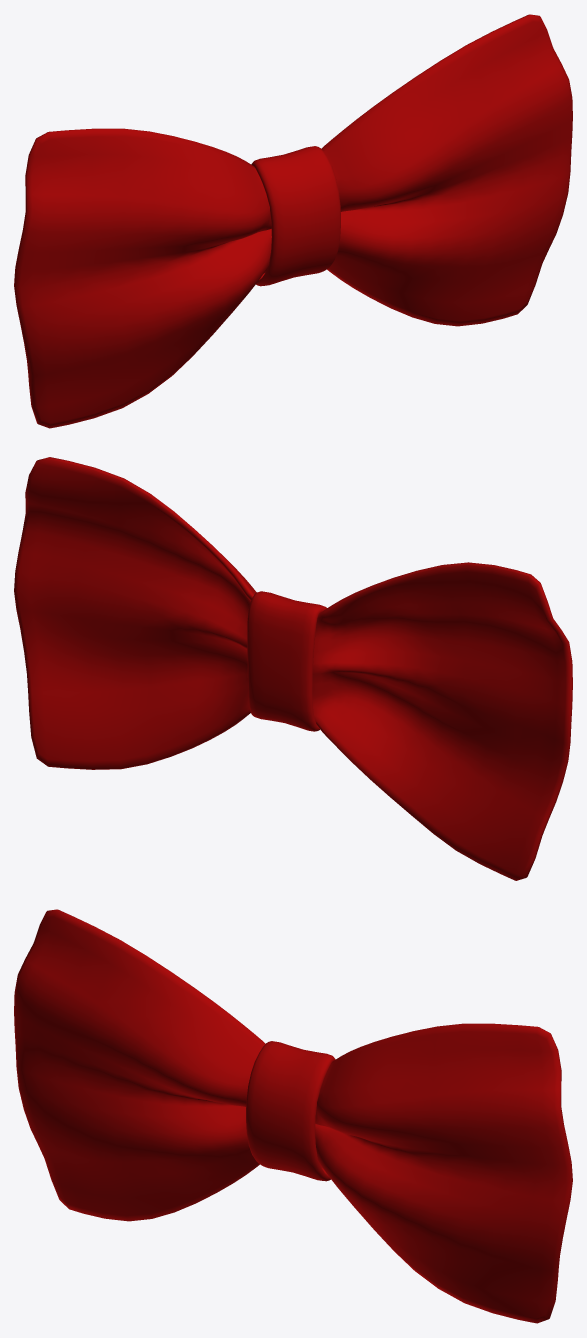
The picture shows the model from 3 angles, top to bottom: view 1: azimuth 30°, elevation 25°; view 2: azimuth 150°, elevation 25°; view 3: azimuth 330°, elevation 25°; orthographic projection.
Parts seen in each view (by area): view 1: Bow_tie_A_rig_may_r0:Bow_tie_2_Bow_tie_A_rig_may_r0:blacknec, Bow_tie_A_rig_may_r0:Bow_tie_1_Bow_tie_A_rig_may_r0:blacknec; view 2: Bow_tie_A_rig_may_r0:Bow_tie_2_Bow_tie_A_rig_may_r0:blacknec, Bow_tie_A_rig_may_r0:Bow_tie_1_Bow_tie_A_rig_may_r0:blacknec; view 3: Bow_tie_A_rig_may_r0:Bow_tie_2_Bow_tie_A_rig_may_r0:blacknec, Bow_tie_A_rig_may_r0:Bow_tie_1_Bow_tie_A_rig_may_r0:blacknec.
Boxes of the visible parts, box(x1,y1,x2,y2) form: Bow_tie_A_rig_may_r0:Bow_tie_2_Bow_tie_A_rig_may_r0:blacknec: box(14, 14, 572, 428); Bow_tie_A_rig_may_r0:Bow_tie_1_Bow_tie_A_rig_may_r0:blacknec: box(251, 146, 340, 286); Bow_tie_A_rig_may_r0:Bow_tie_2_Bow_tie_A_rig_may_r0:blacknec: box(14, 457, 572, 880); Bow_tie_A_rig_may_r0:Bow_tie_1_Bow_tie_A_rig_may_r0:blacknec: box(247, 591, 326, 731); Bow_tie_A_rig_may_r0:Bow_tie_2_Bow_tie_A_rig_may_r0:blacknec: box(14, 909, 572, 1323); Bow_tie_A_rig_may_r0:Bow_tie_1_Bow_tie_A_rig_may_r0:blacknec: box(246, 1041, 335, 1181).
Size of the model in its own units: 0.0181 by 0.00941 by 0.0024.
